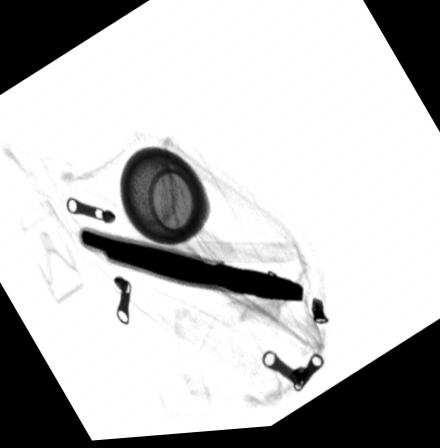Pliers: (76, 227, 305, 309)
